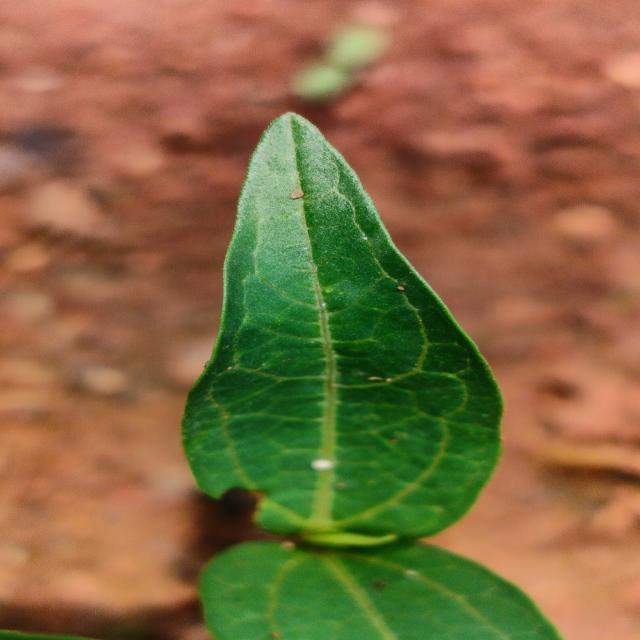Black gram_healthy: (182, 107, 499, 546)
